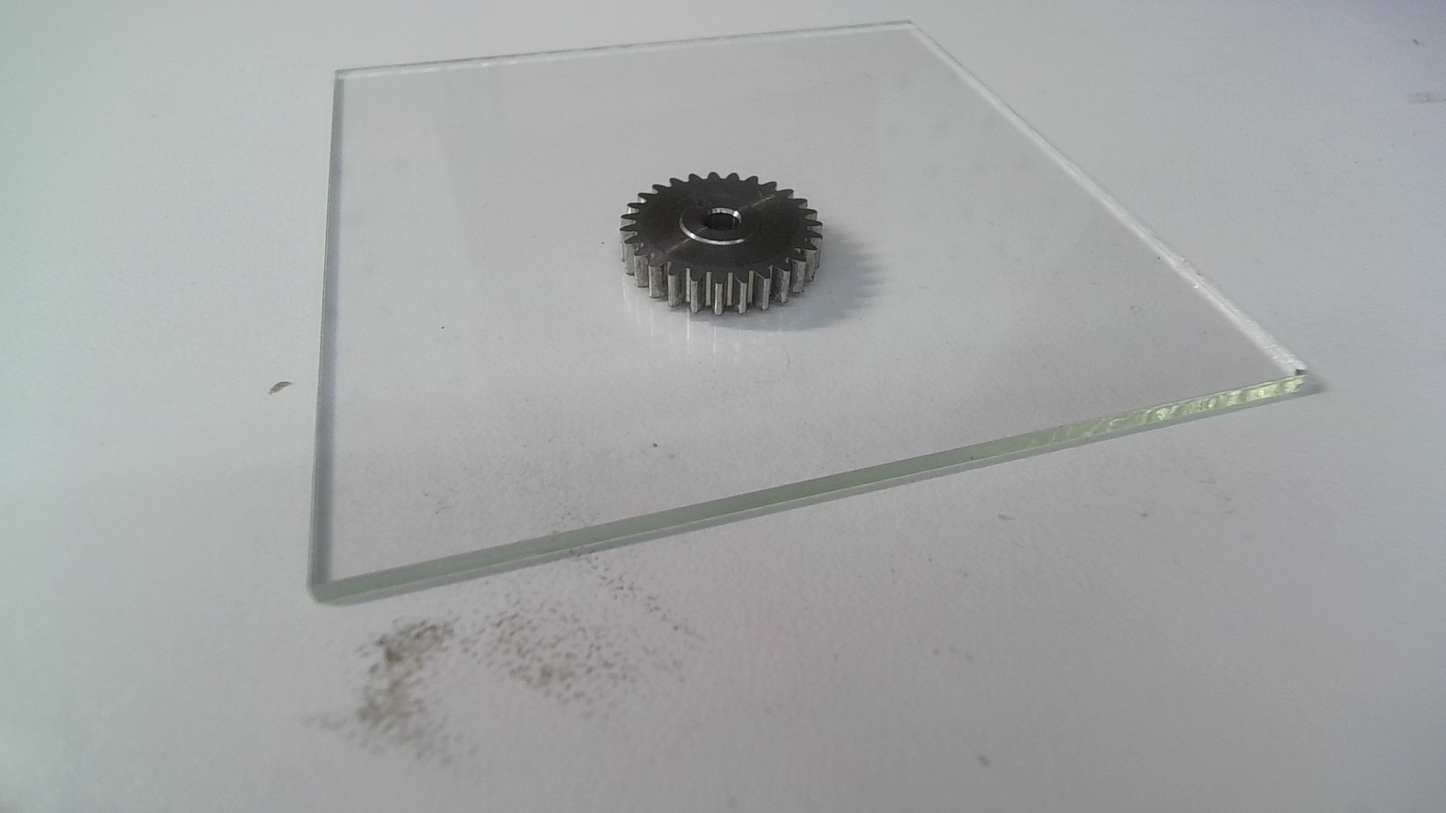gear: (617, 170, 826, 320)
